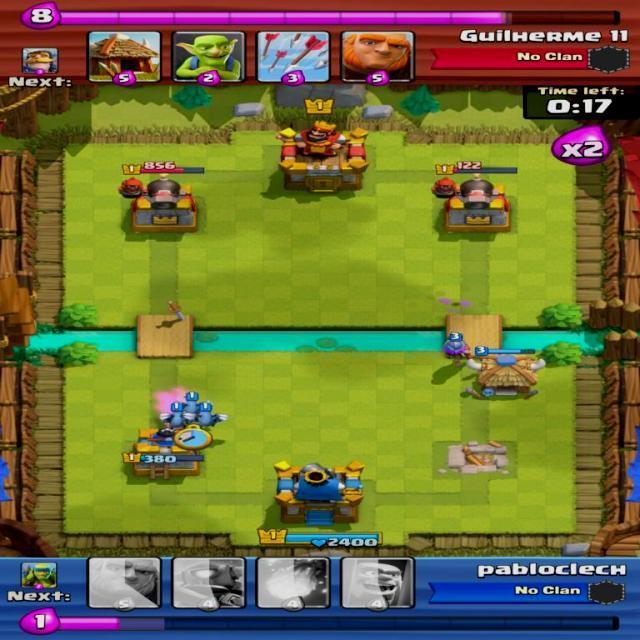ECannoneerTower: (120, 166, 206, 234), (438, 175, 518, 240)
EKingTower: (275, 133, 370, 197)
OGoblinHut: (474, 349, 534, 401)
OMusk: (442, 334, 466, 360)
OwnKingTower: (280, 466, 364, 530)
OwnPrincessTower: (135, 427, 201, 484)
TowerDown: (429, 439, 523, 480)
ominion: (180, 393, 201, 415), (198, 408, 217, 426), (168, 408, 185, 427)
